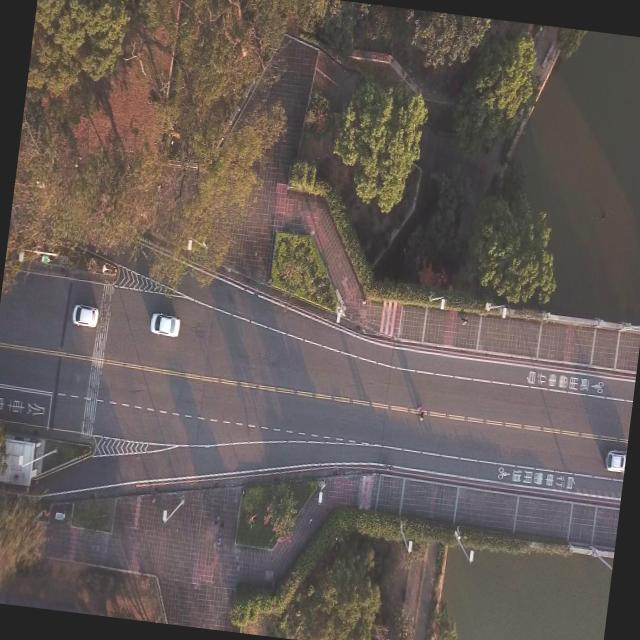car: (147, 310, 180, 338), (70, 302, 99, 328), (604, 448, 626, 472)
